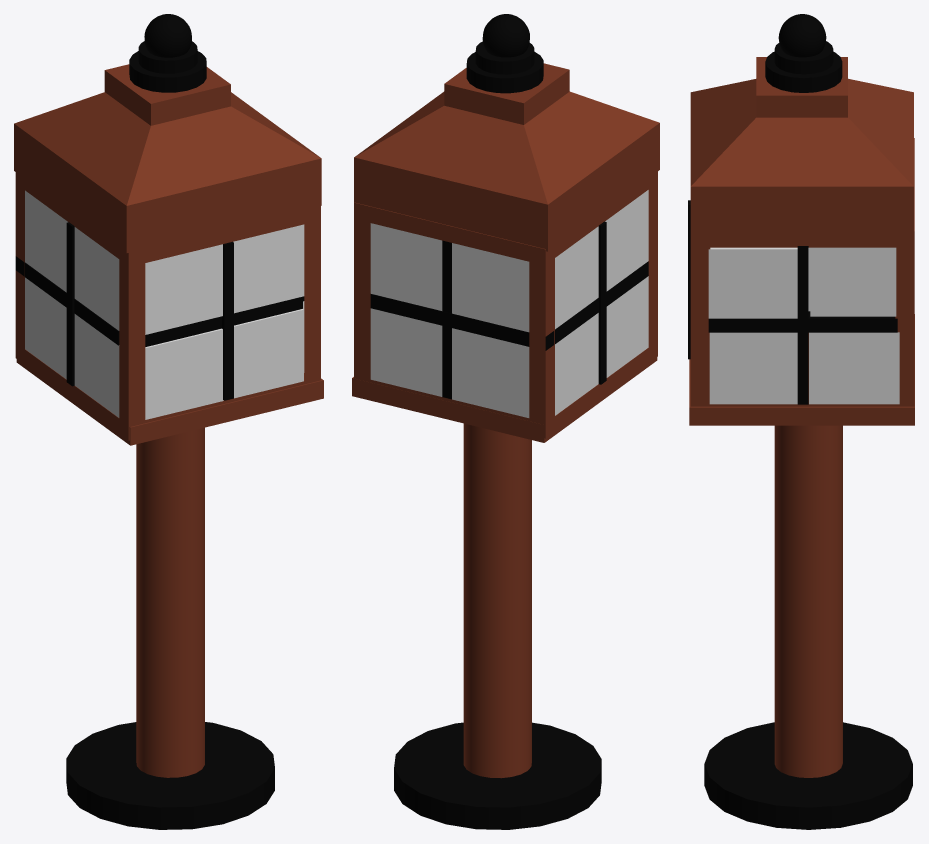
The model's file is lamp post.fbx.
The picture shows the model from 3 angles, left to right: view 1: azimuth 30°, elevation 25°; view 2: azimuth 150°, elevation 25°; view 3: azimuth 270°, elevation 25°; orthographic projection.
Visible parts, largest first — view 1: pCube568, pCylinder612, pCylinder611, pCube553, pCube546, pCube566, pCube556, pCube551, pCube543, pCube564, pCube559, pCube549 (+8 smaller); view 2: pCube568, pCylinder612, pCube553, pCylinder611, pCube558, pCube563, pCube544, pCube557, pCube543, pCube549, pCube561, pCube564 (+8 smaller); view 3: pCube568, pCylinder612, pCylinder611, pCube553, pCube562, pCube582, pCube567, pCube545, pCube543, pCube552, pCube547, pCylinder613 (+3 smaller).
Part boxes in pixels (left/top/right/bottom): pCube568: left=14, top=64, right=321, bottom=252; pCylinder612: left=136, top=427, right=204, bottom=777; pCylinder611: left=66, top=722, right=274, bottom=829; pCube553: left=15, top=172, right=320, bottom=440; pCube546: left=145, top=328, right=223, bottom=419; pCube566: left=145, top=244, right=222, bottom=334; pCube556: left=233, top=224, right=304, bottom=313; pCube551: left=234, top=309, right=303, bottom=398; pCube543: left=16, top=349, right=323, bottom=445; pCube564: left=74, top=314, right=119, bottom=417; pCube559: left=74, top=227, right=119, bottom=330; pCube549: left=25, top=277, right=66, bottom=379; pCube568: left=354, top=63, right=659, bottom=251; pCylinder612: left=463, top=423, right=531, bottom=778; pCube553: left=354, top=171, right=657, bottom=438; pCylinder611: left=394, top=722, right=601, bottom=829; pCube558: left=452, top=328, right=529, bottom=417; pCube563: left=452, top=243, right=529, bottom=332; pCube544: left=370, top=308, right=442, bottom=396; pCube557: left=370, top=223, right=442, bottom=310; pCube543: left=352, top=348, right=657, bottom=442; pCube549: left=555, top=313, right=598, bottom=415; pCube561: left=555, top=226, right=598, bottom=329; pCube564: left=606, top=276, right=648, bottom=377; pCube568: left=690, top=57, right=913, bottom=233; pCylinder612: left=774, top=425, right=842, bottom=777; pCylinder611: left=704, top=722, right=912, bottom=829; pCube553: left=690, top=138, right=914, bottom=406; pCube562: left=809, top=332, right=899, bottom=404; pCube582: left=709, top=332, right=797, bottom=404; pCube567: left=708, top=247, right=797, bottom=318; pCube545: left=810, top=247, right=896, bottom=316; pCube543: left=689, top=314, right=914, bottom=425; pCube552: left=708, top=311, right=897, bottom=332; pCube547: left=797, top=246, right=808, bottom=404; pCylinder613: left=765, top=51, right=842, bottom=92.
Bounding box in the file's own units: 18.63 × 69.88 × 18.72.
